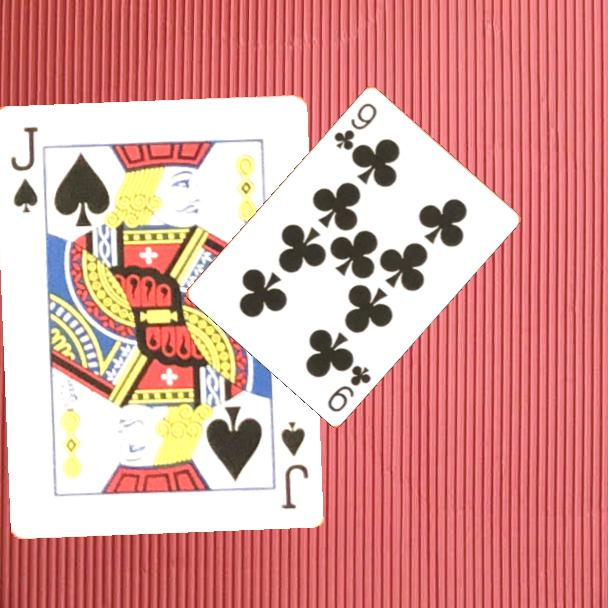c09: (330, 99, 380, 153), (324, 361, 374, 415)
s11: (276, 417, 311, 512), (6, 122, 40, 216)
